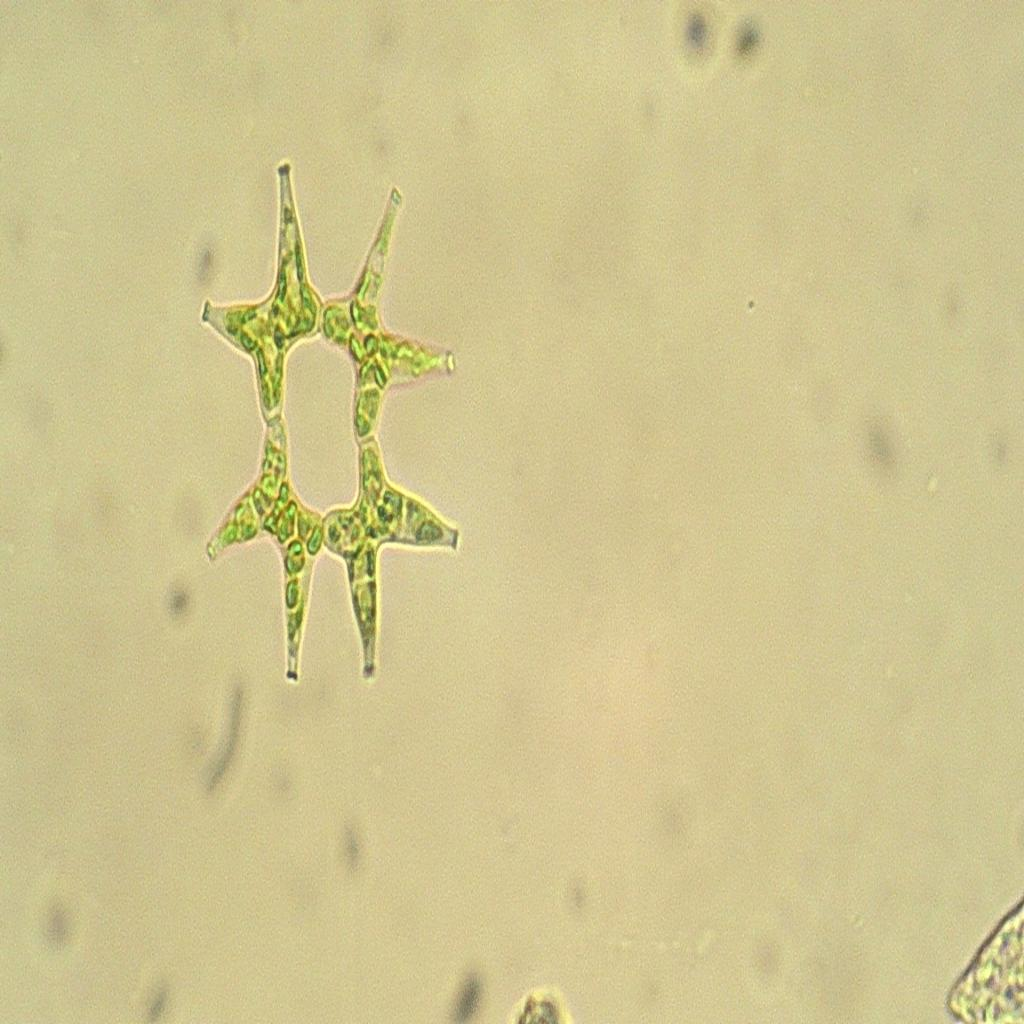Pediastrum_10: (183, 144, 472, 706)
